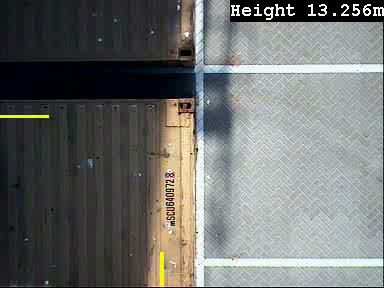groundmarker_2: (194, 232, 237, 288), (193, 39, 236, 94)
